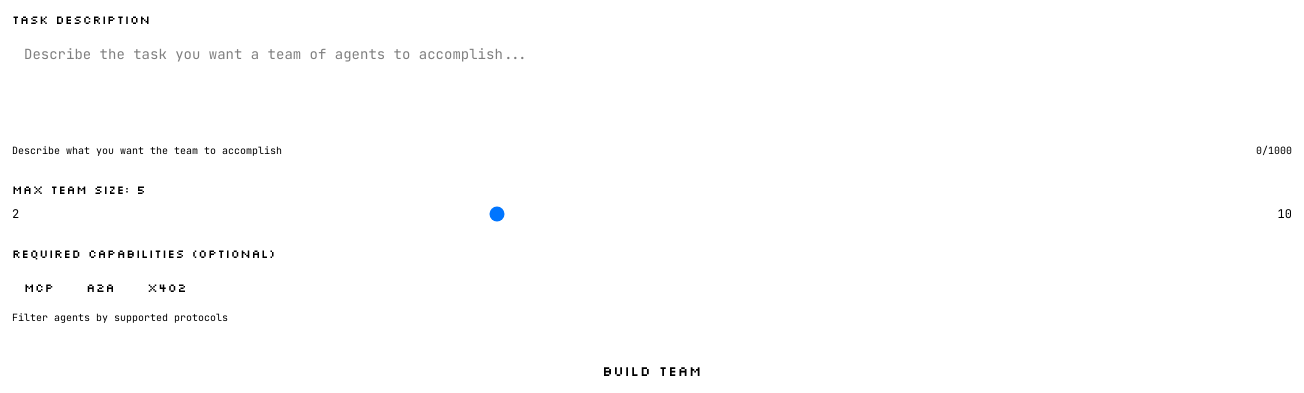
Test: TeamComposer › team size slider › updates team size on change
Set the slider with test id "team-size-slider" to "8" at point(951, 214), box x1=35 y1=210 x2=1262 y2=218
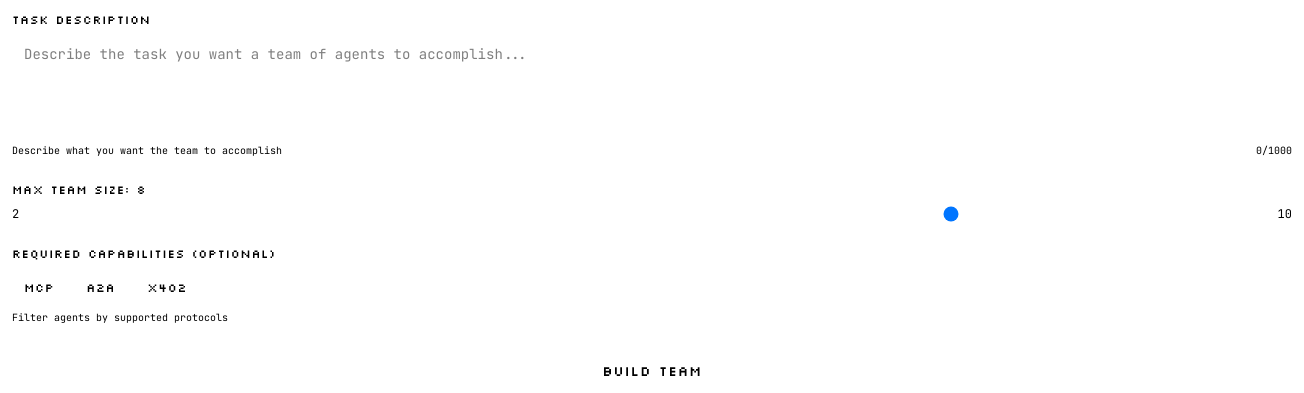
Expected: the text with test id "team-size-value" reads "8", x1=136 y1=182 x2=146 y2=197
